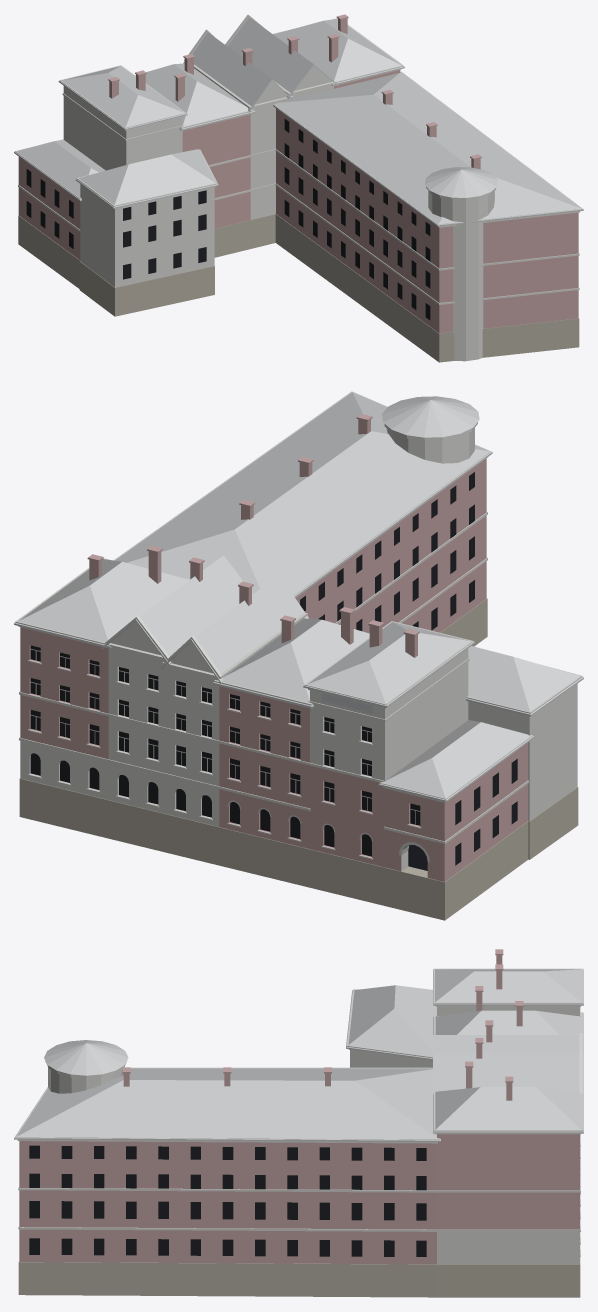
Rendered from SM_Zapskovye_Nab6.glb.
3 views of the same model, one above another, from view 1: azimuth 30°, elevation 25°; view 2: azimuth 150°, elevation 25°; view 3: azimuth 270°, elevation 25° (orthographic). The views are drawn at different scales.
Parts seen in each view (by area): view 1: SM_Zapskovye_Nab6; view 2: SM_Zapskovye_Nab6; view 3: SM_Zapskovye_Nab6.
Boxes of the visible parts, x1=… form: SM_Zapskovye_Nab6: x1=14, y1=14, x2=583, y2=362; SM_Zapskovye_Nab6: x1=14, y1=391, x2=583, y2=920; SM_Zapskovye_Nab6: x1=14, y1=949, x2=583, y2=1297.
Size of the model in its own units: 42.78 by 22.75 by 56.57.
